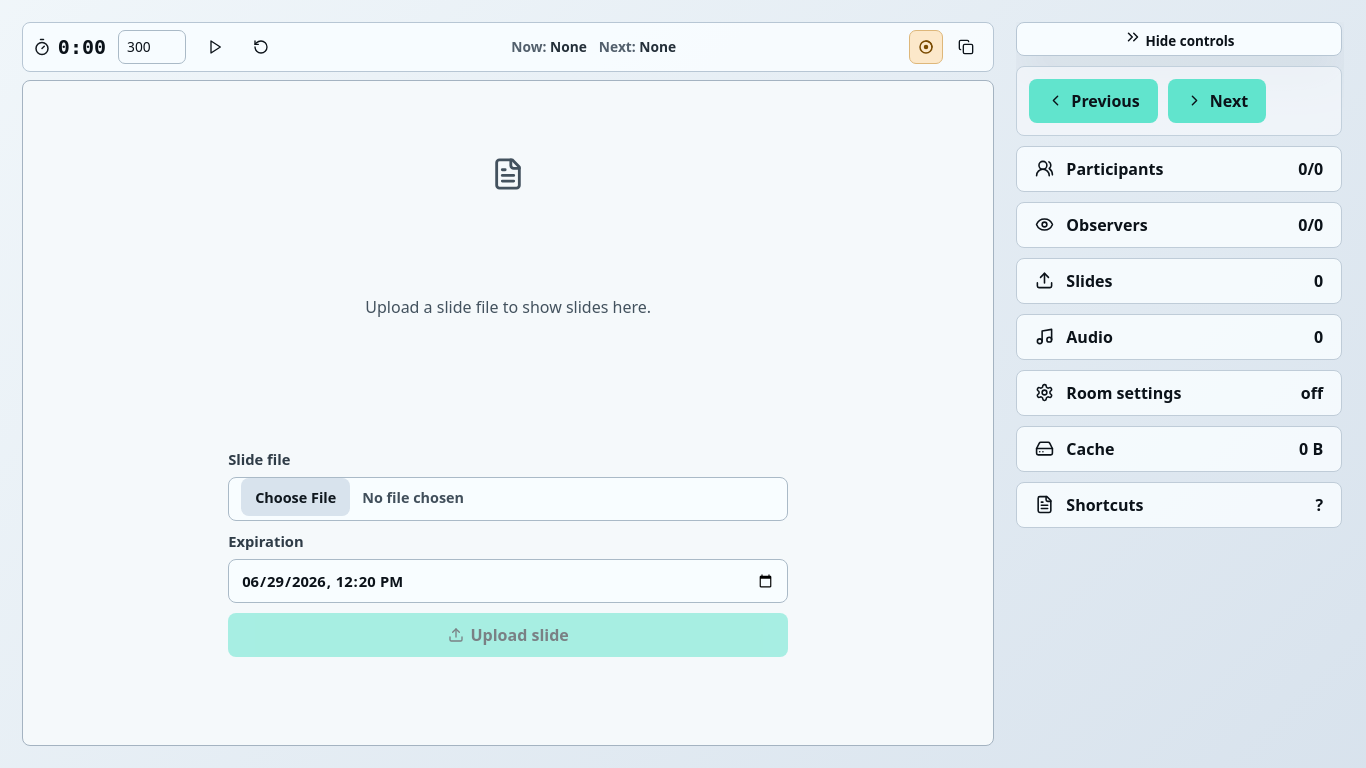
App landing polish › stops cached audio restore before uploading when the server is out of space
What coordinates should you click on to do the following:
click the button "Cache 0 B"
I would click on:
 (1090, 449)
Its box is x1=1017 y1=427 x2=1341 y2=471.
(page scrolled)
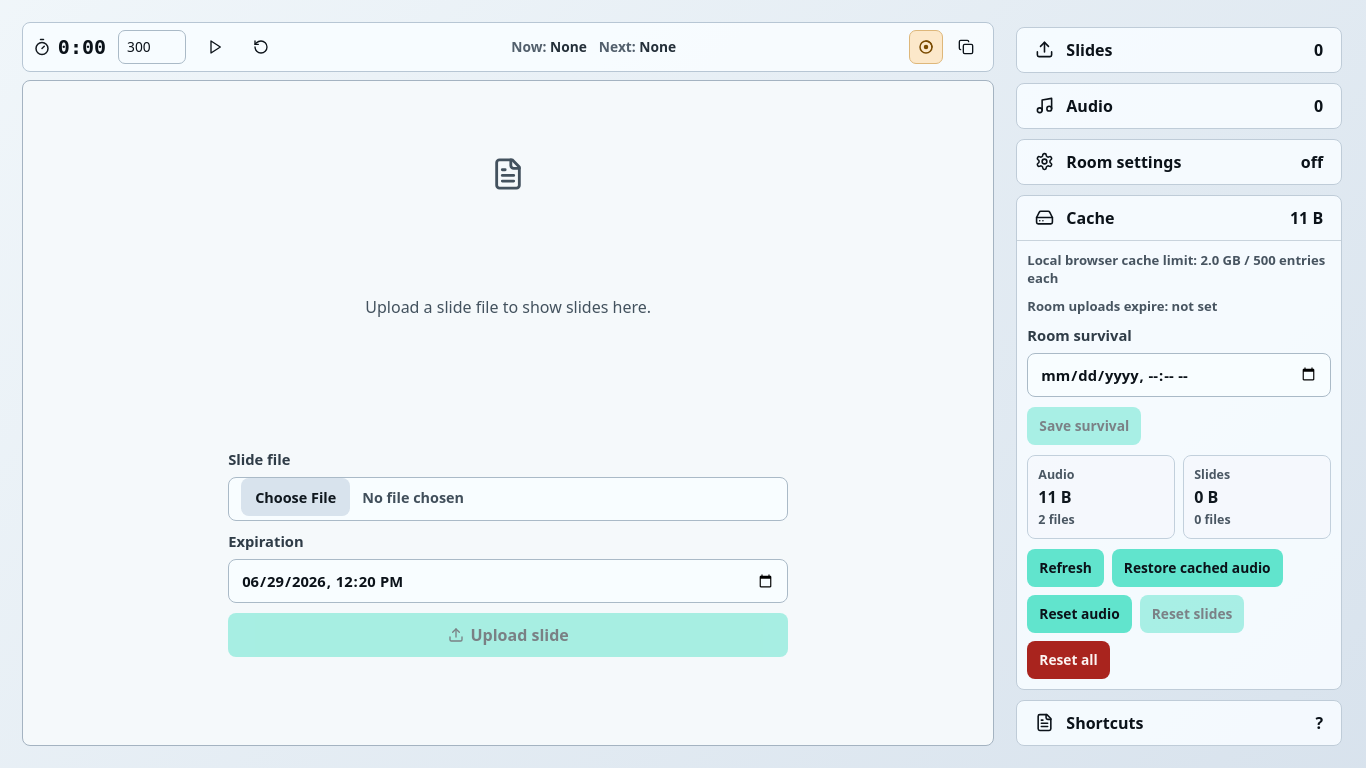
What coordinates should you click on to do the following:
click the button "Restore cached audio"
I would click on:
 (1197, 568)
Its box is x1=1112 y1=549 x2=1283 y2=587.
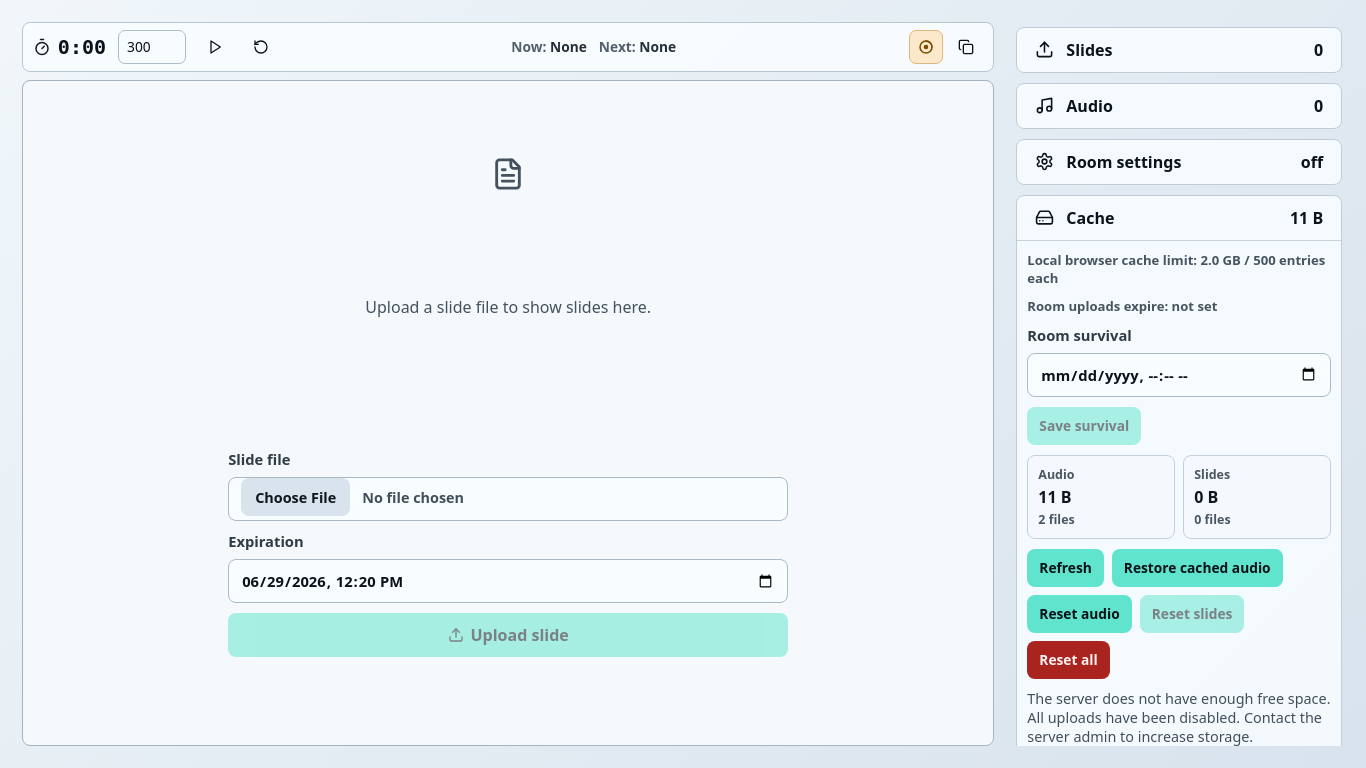
Expected: the text "The server does not have enough free space. All uploads have been disabled. Contact the server admin to increase storage" is shown, x1=1027 y1=689 x2=1330 y2=746
